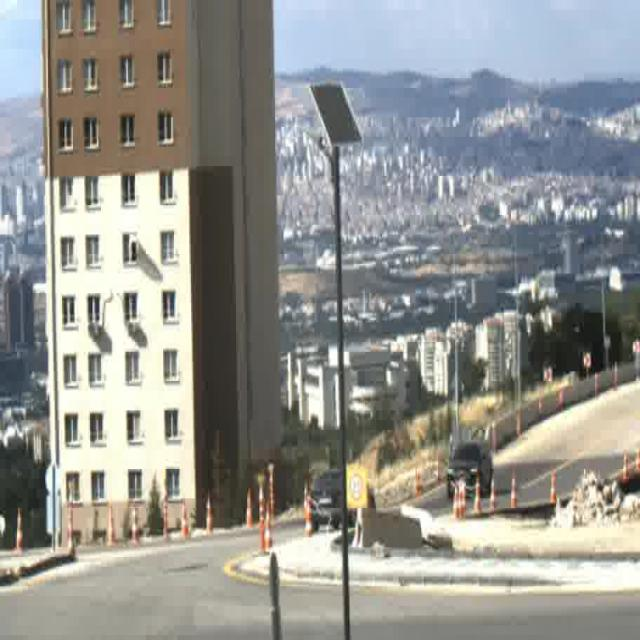Car: (311, 466, 376, 529), (447, 443, 492, 502)
